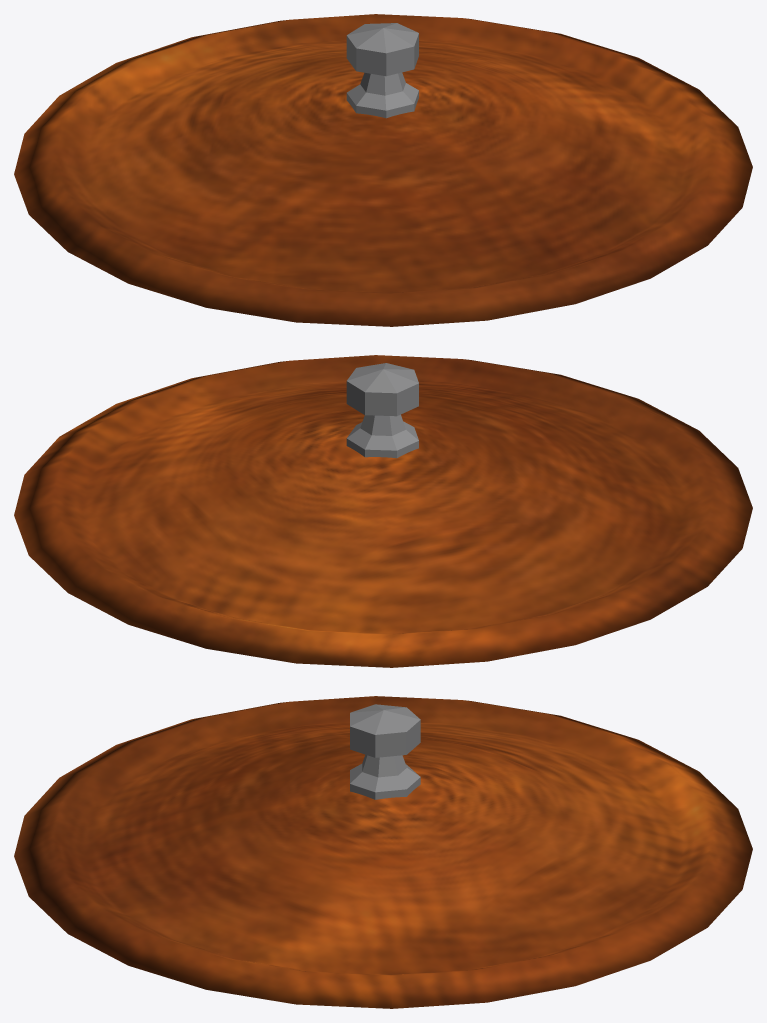
File: Lid_Knob.fbx
3 views of the same model, one above another, from view 1: azimuth 30°, elevation 25°; view 2: azimuth 150°, elevation 25°; view 3: azimuth 270°, elevation 25° (orthographic).
Parts seen in each view (by area): view 1: Lid_Knob_LOD0; view 2: Lid_Knob_LOD0; view 3: Lid_Knob_LOD0.
Boxes of the visible parts, x1,y1,x2,y2 form: Lid_Knob_LOD0: [14, 14, 752, 326]; Lid_Knob_LOD0: [14, 355, 752, 667]; Lid_Knob_LOD0: [14, 696, 752, 1008].
Size of what is drawn, in the model's own units: 101 by 21.55 by 101.
